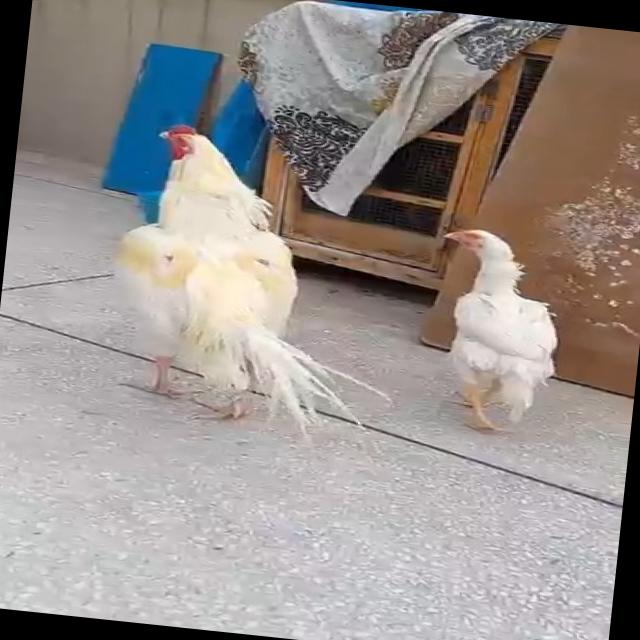walking: (66, 106, 351, 450), (392, 213, 612, 445)
